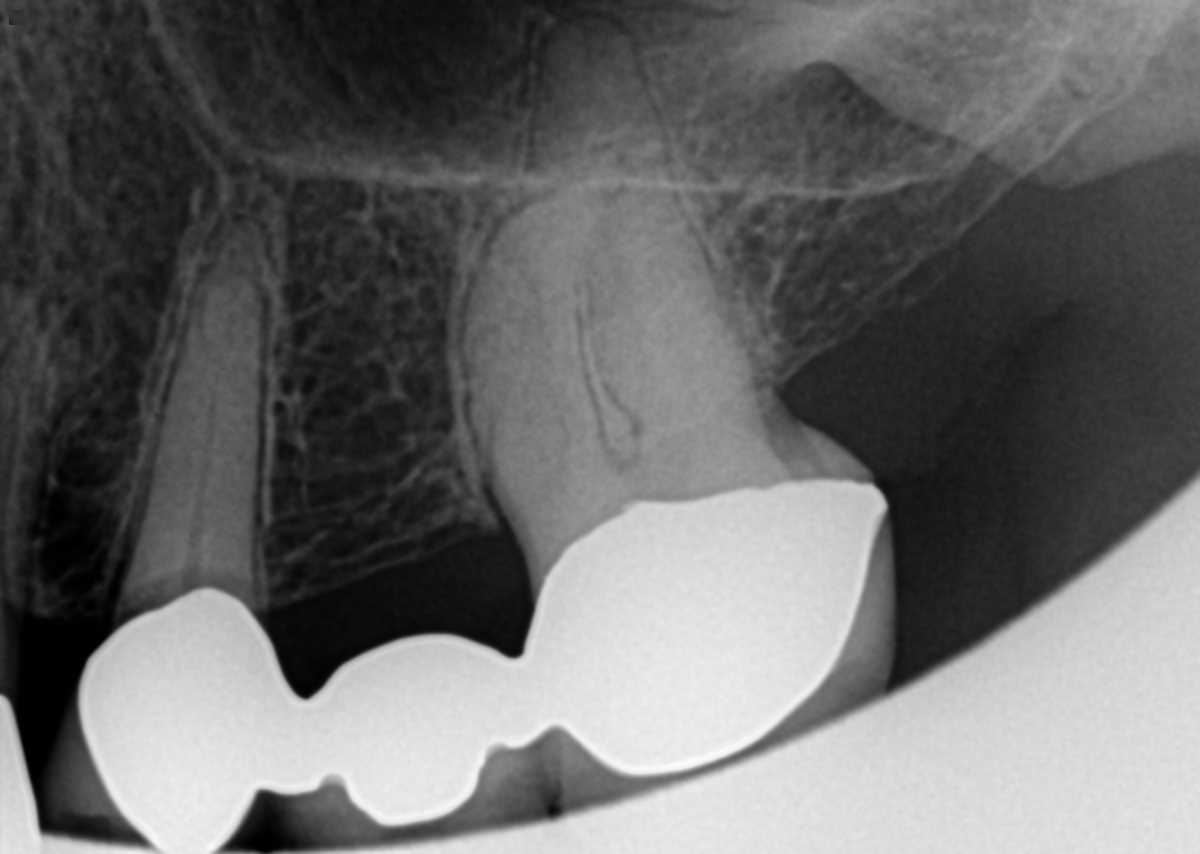Distal Root: (591, 162, 759, 446)
Main Canal: (184, 365, 221, 579)
Main Root: (110, 204, 274, 597)
Mesial Root: (457, 184, 619, 507)
Palatal Root: (522, 12, 770, 517)
decay: (117, 564, 257, 618)
